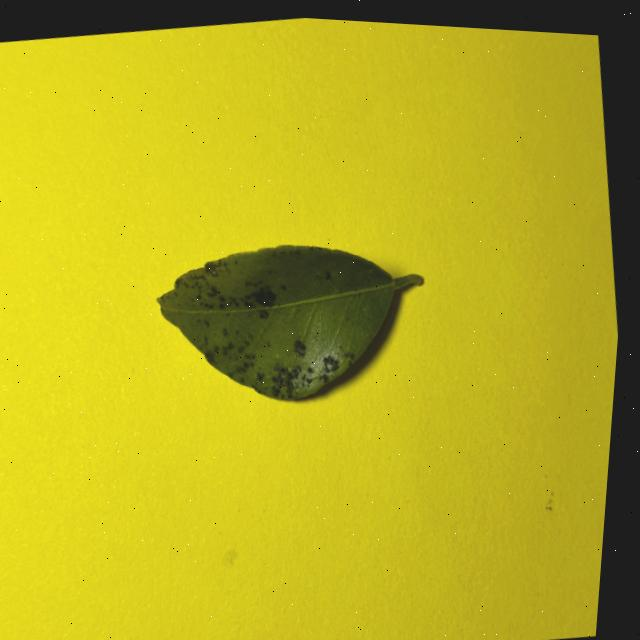sooty_mold: (158, 244, 419, 399)
